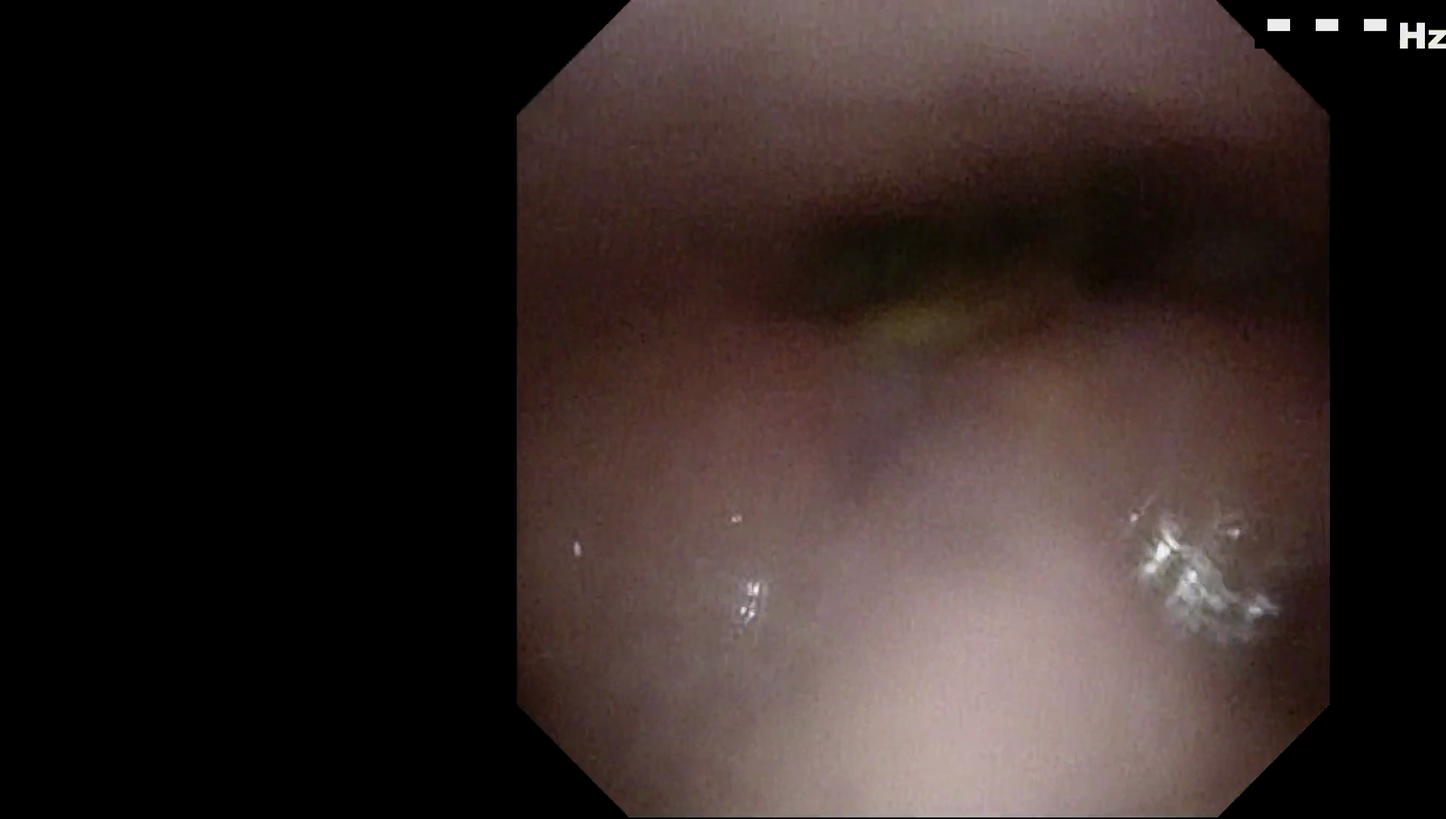next: (1068, 127, 1203, 334), (780, 191, 965, 333)
